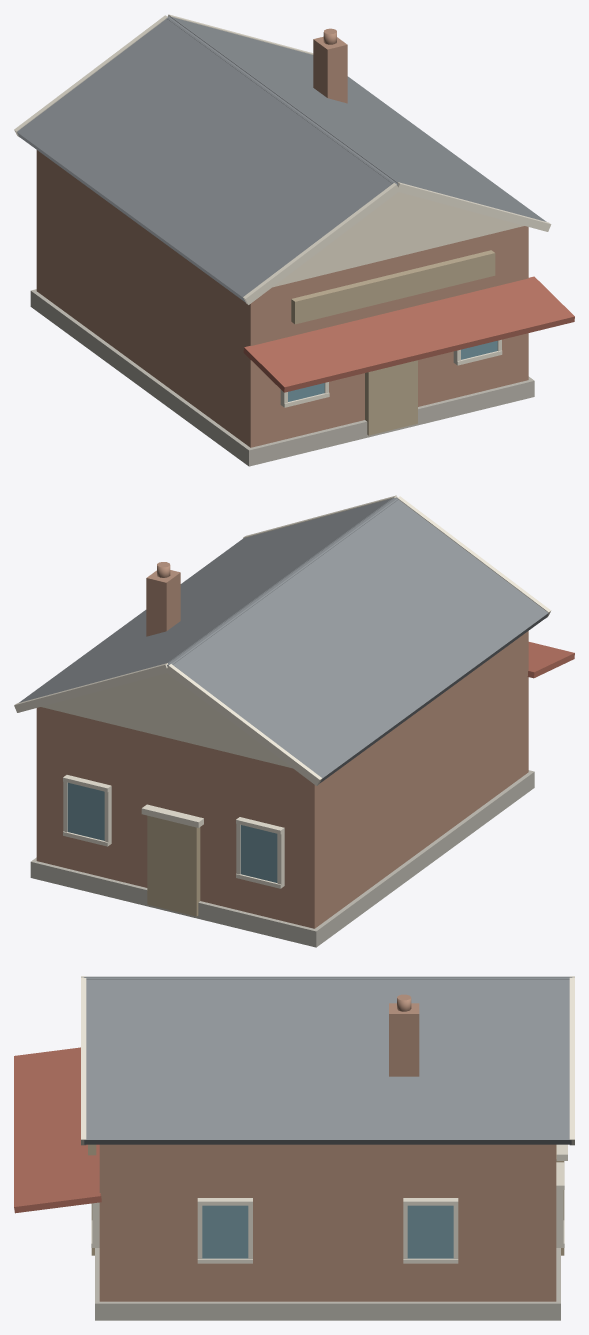
Rendered from tyne-shop_lod1.glb.
3 views of the same model, one above another, from view 1: azimuth 30°, elevation 25°; view 2: azimuth 150°, elevation 25°; view 3: azimuth 270°, elevation 25° (orthographic). The views are drawn at different scales.
Parts seen in each view (by area): view 1: RF_Roof.001, RF_Body, RF_ShopAwning, RF_Roof, RF_Foundation, RF_Gable, RF_ShopSign, RF_Door.001, RF_Chimney, RF_Vergeband.001, RF_Vergeband.003, RF_Ridge (+1 smaller); view 2: RF_Body, RF_Roof.001, RF_Roof, RF_Foundation, RF_Gable.001, RF_Door, RF_Chimney, RF_Vergeband.002, RF_Window.004, RF_Window.003, RF_Vergeband, RF_Ridge (+3 smaller); view 3: RF_Roof, RF_Body, RF_ShopAwning, RF_Foundation, RF_Window.005, RF_Window, RF_Chimney, RF_Ridge, RF_Vergeband.003, RF_Vergeband, RF_WindowFrame.008, RF_Roof.001 (+2 smaller).
Boxes of the visible parts, x1,y1,x2,y2 form: RF_Roof.001: (17, 17, 393, 302); RF_Body: (36, 150, 528, 447); RF_ShopAwning: (243, 276, 574, 392); RF_Roof: (170, 16, 546, 221); RF_Foundation: (30, 289, 534, 466); RF_Gable: (273, 192, 523, 287); RF_ShopSign: (291, 250, 495, 324); RF_Door.001: (365, 360, 417, 435); RF_Chimney: (313, 36, 347, 103); RF_Vergeband.001: (243, 183, 399, 304); RF_Vergeband.003: (397, 182, 551, 231); RF_Ridge: (167, 16, 398, 185); RF_Body: (36, 631, 528, 928); RF_Roof.001: (171, 498, 548, 783); RF_Roof: (19, 498, 394, 702); RF_Foundation: (30, 770, 534, 947); RF_Gable.001: (41, 673, 292, 768); RF_Door: (147, 815, 200, 916); RF_Chimney: (146, 570, 180, 636); RF_Vergeband.002: (165, 664, 322, 785); RF_Window.004: (67, 782, 104, 840); RF_Window.003: (240, 825, 277, 882); RF_Vergeband: (14, 663, 167, 712); RF_Ridge: (167, 497, 398, 666); RF_Roof: (84, 978, 571, 1144); RF_Body: (99, 1144, 556, 1301); RF_ShopAwning: (14, 1047, 101, 1213); RF_Foundation: (95, 1248, 560, 1320); RF_Window.005: (202, 1205, 248, 1258); RF_Window: (407, 1205, 453, 1258); RF_Chimney: (389, 1003, 419, 1076); RF_Ridge: (84, 976, 572, 979); RF_Vergeband.003: (81, 978, 86, 1145); RF_Vergeband: (569, 978, 574, 1145); RF_WindowFrame.008: (556, 1184, 563, 1247); RF_Roof.001: (84, 977, 571, 977).
Size of the model in its own units: 9.91 by 8.47 by 14.74.
